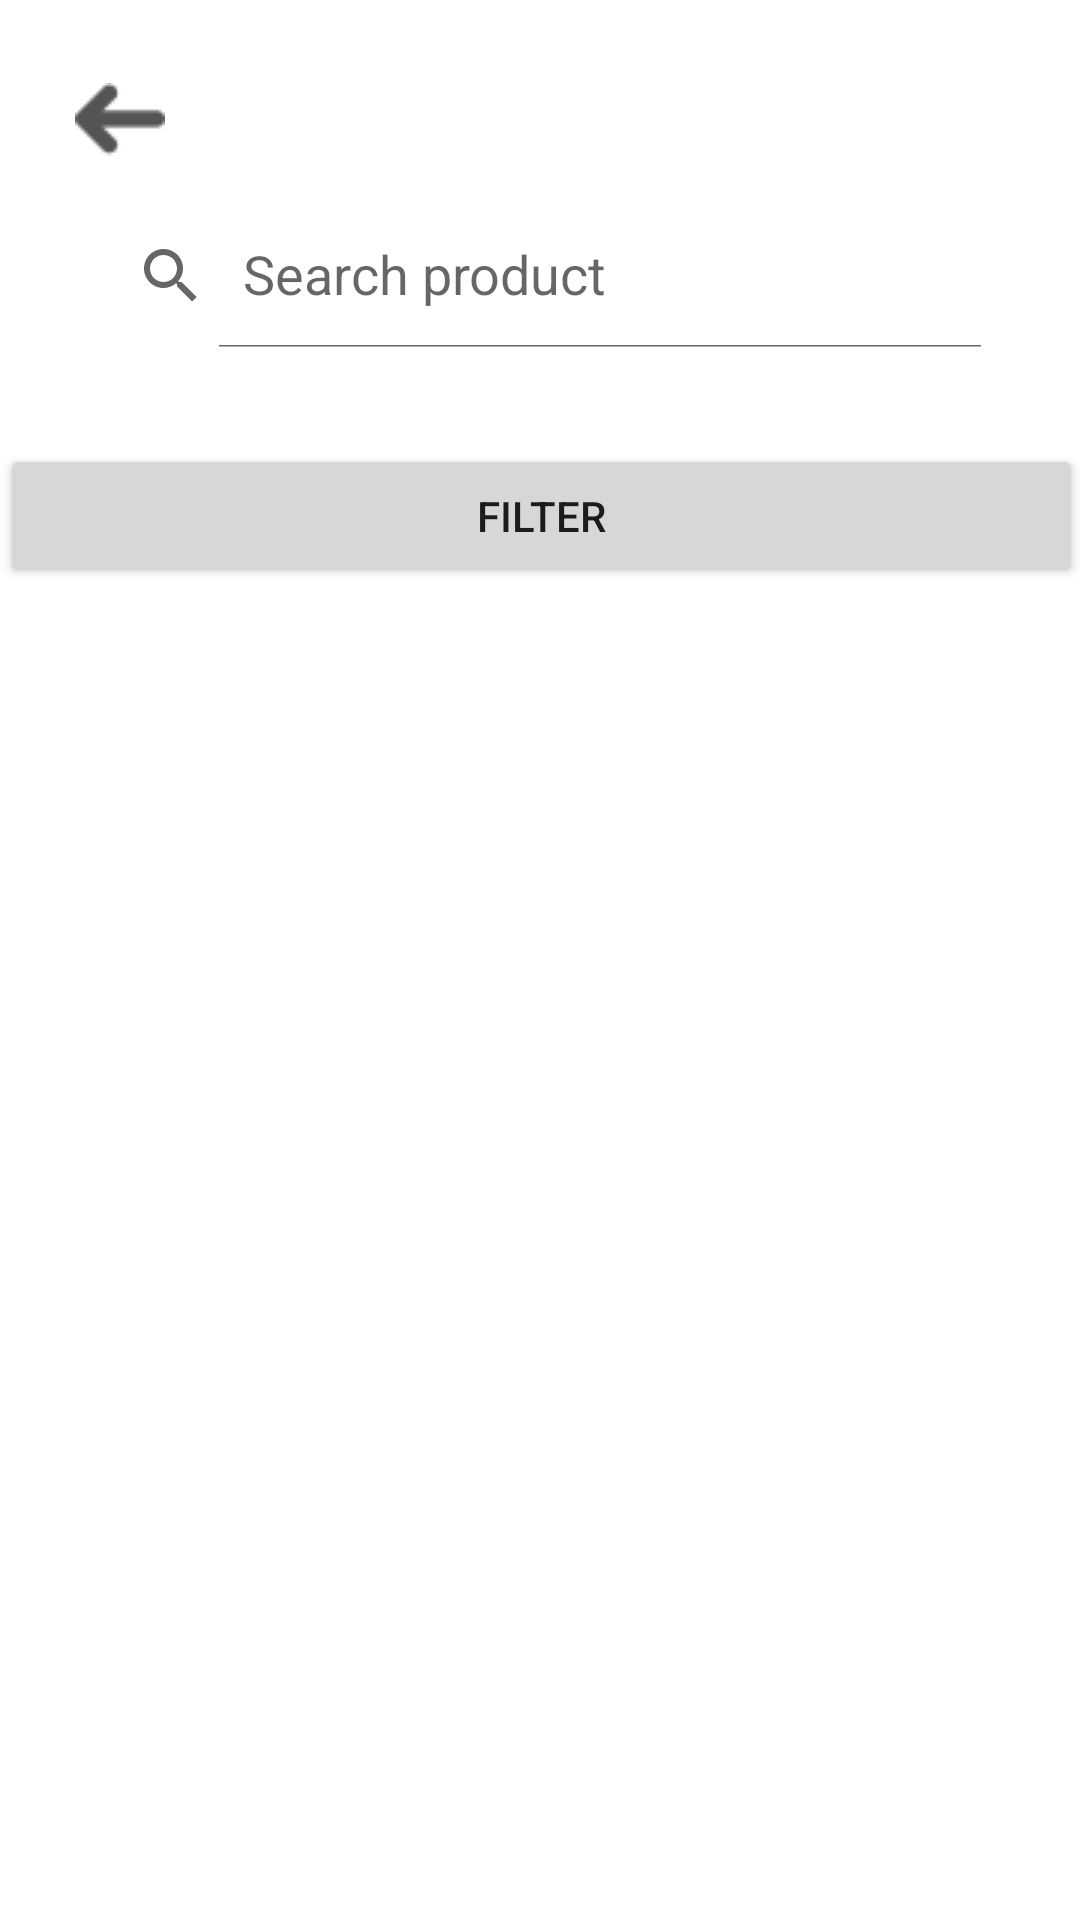

Named icons in this screenshot (1080px x 1920px) and their centers, [x,y]:
arrow: [120,119]
